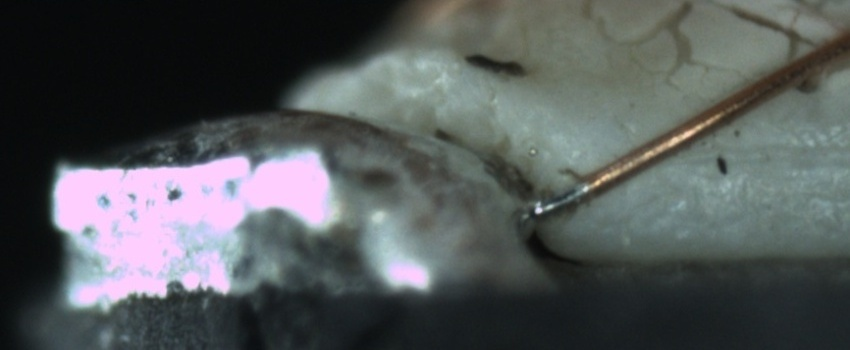DL: (678, 119, 850, 186)
TS: (529, 181, 591, 218)
TTCW: (528, 170, 597, 221)
